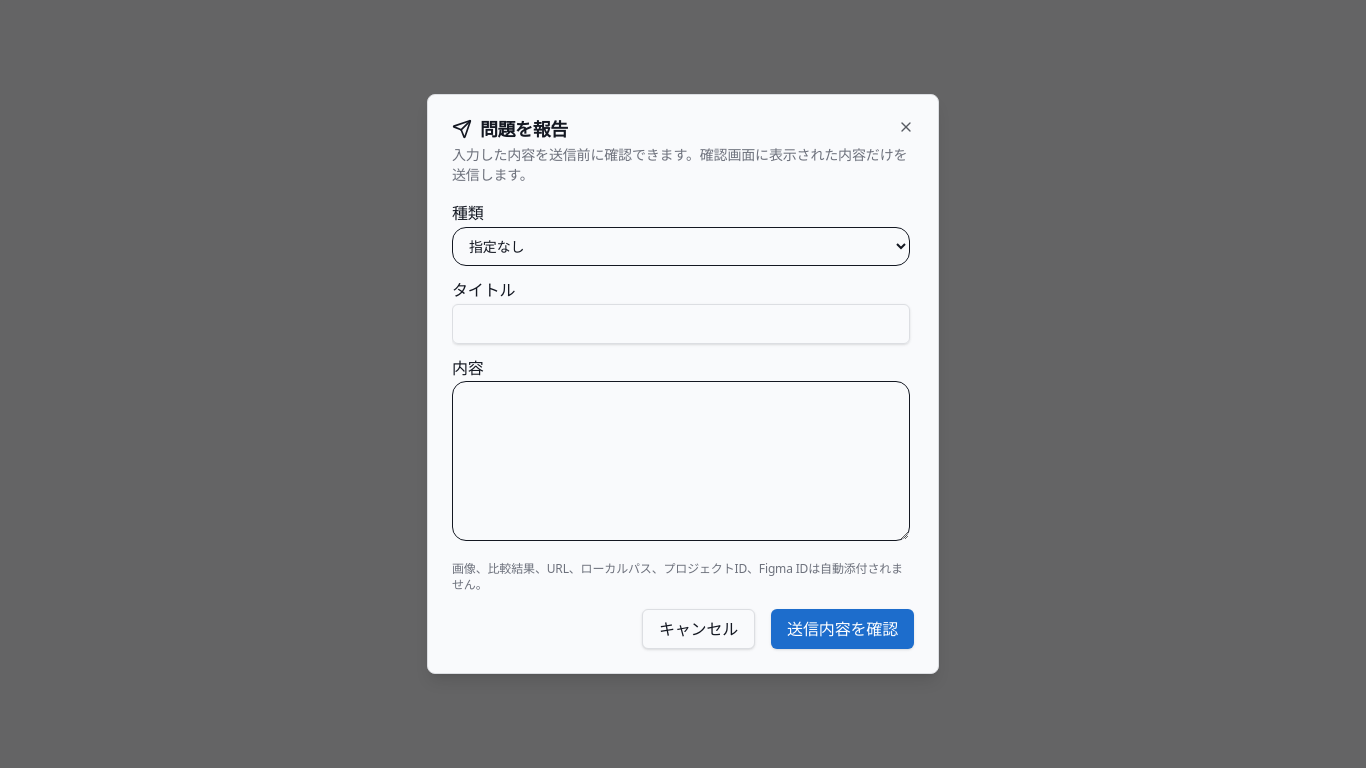
Test: IssueReportDialog › mainが返したexact payloadをreadonly表示して自動添付しない
Expected: the text "画像、比較結果、URL、ローカルパス、プロジェクトID、Figma IDは自動添付されません。" is shown, [452,561,910,593]
Select "不具合" in the dropdown labelled "種類" at (681, 246), box [452,227,910,266]
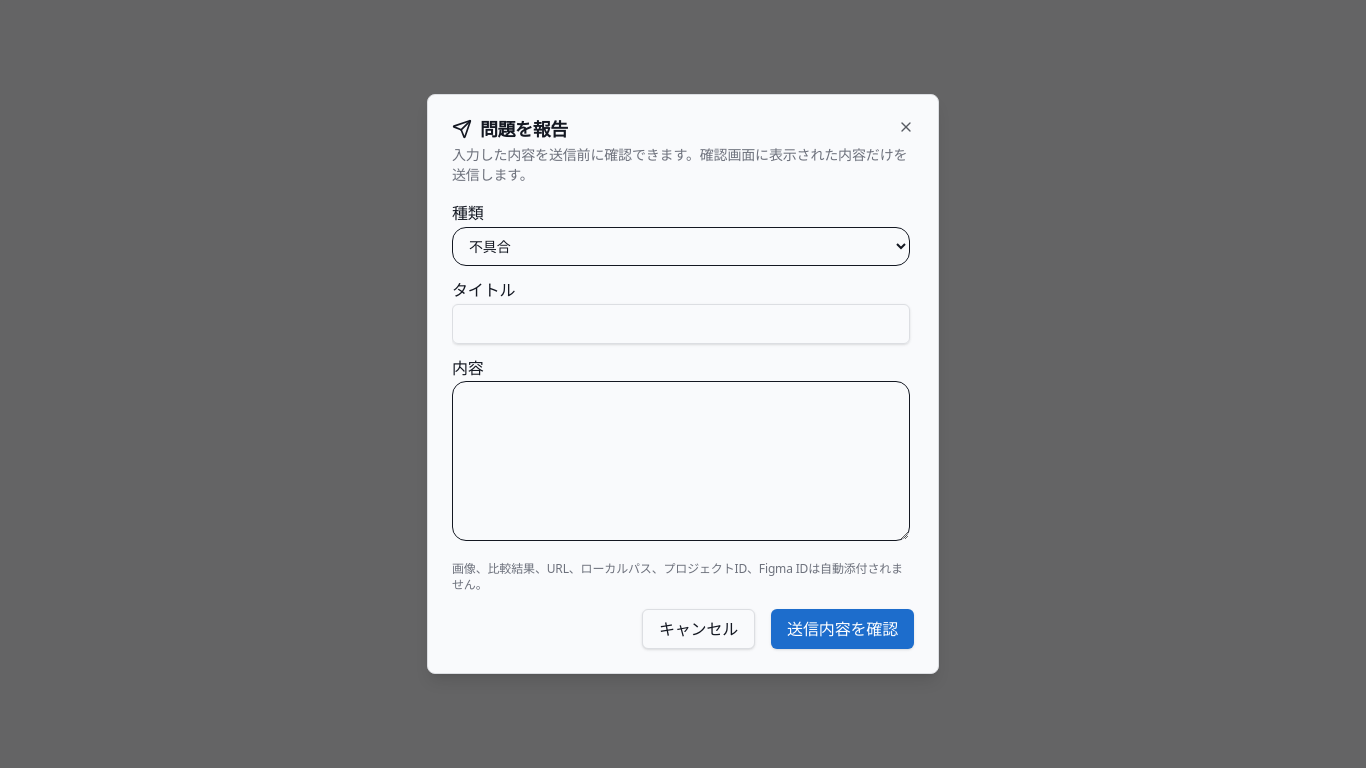
Type "  Broken panel  " into the field labelled "タイトル" at (681, 324), box [452,304,910,344]
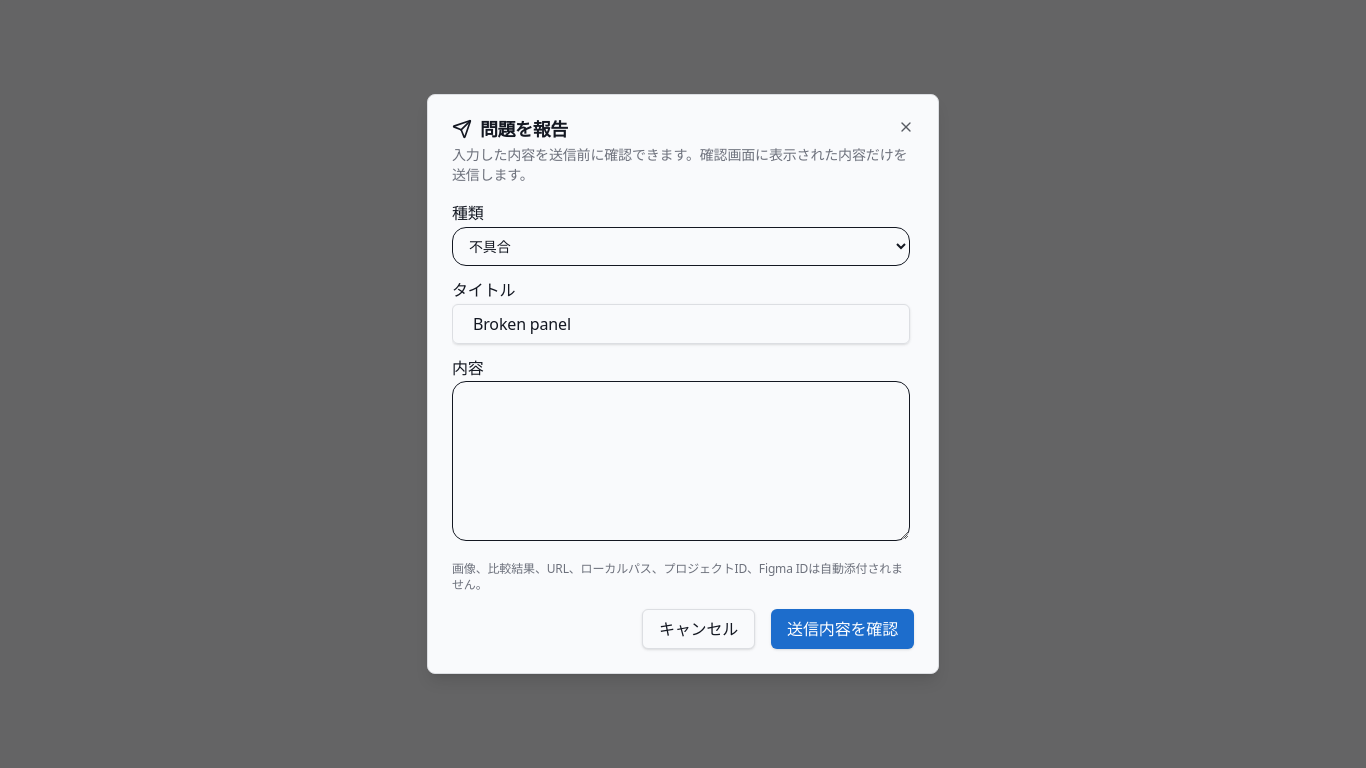
Type "  Steps to reproduce  " into the text box labelled "内容" at (681, 461), box [452,381,910,541]
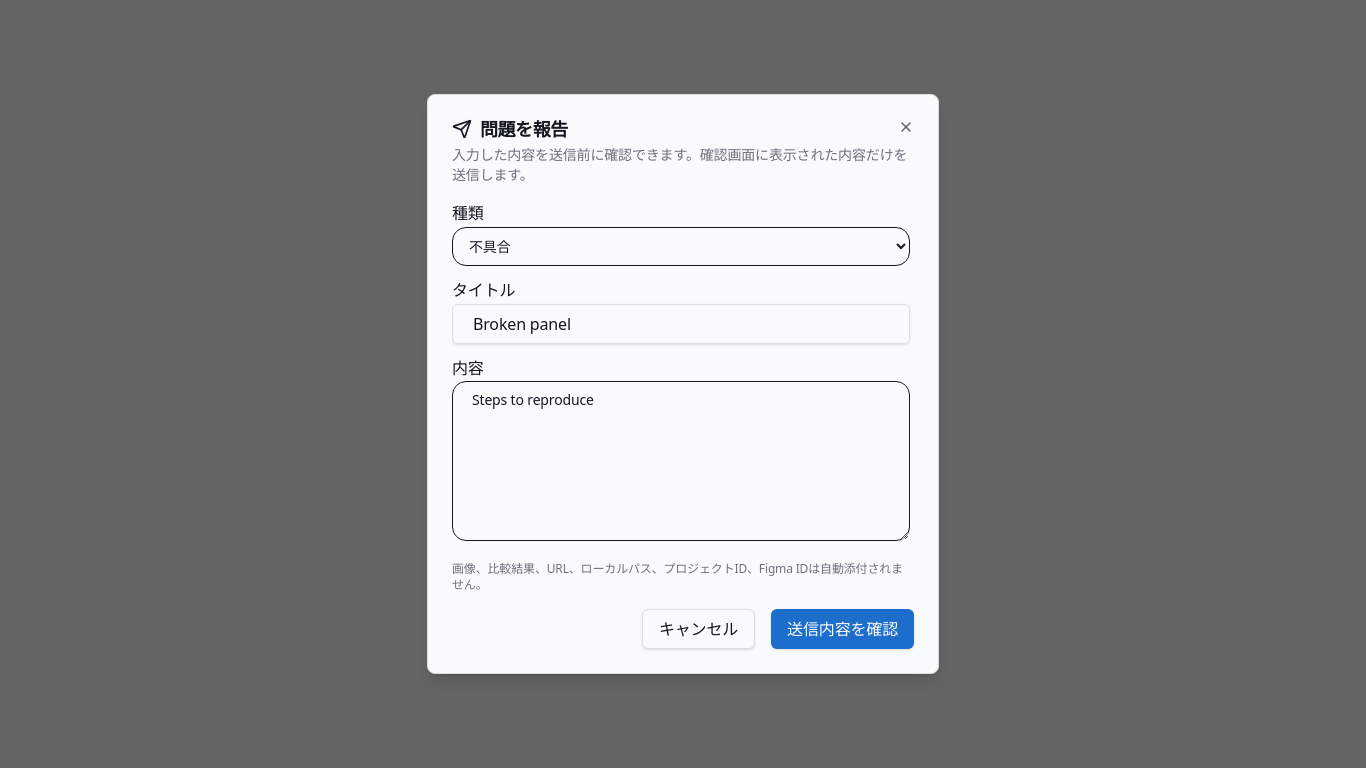
Click the button "送信内容を確認" at (843, 629), box [771,609,914,649]
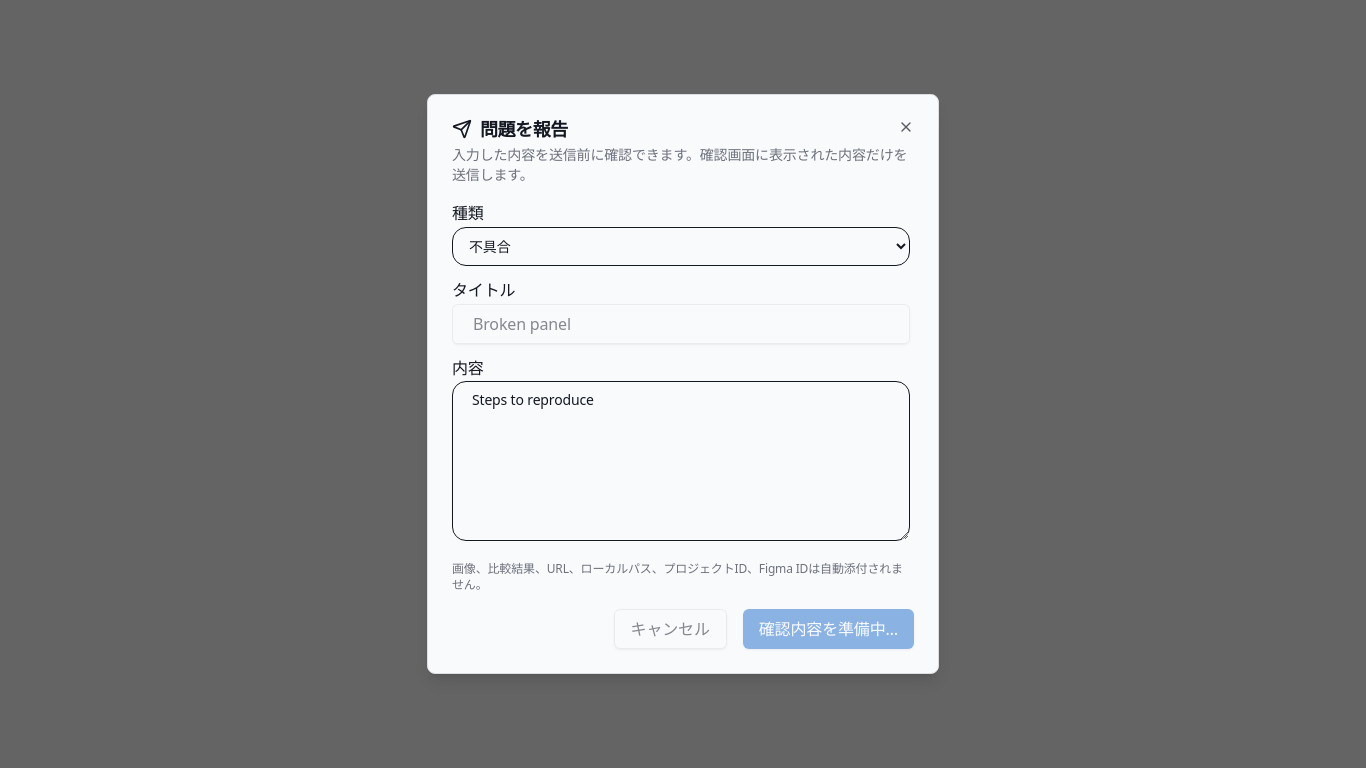
Click the button named "送信内容を確認" at (828, 629), box [743,609,914,649]
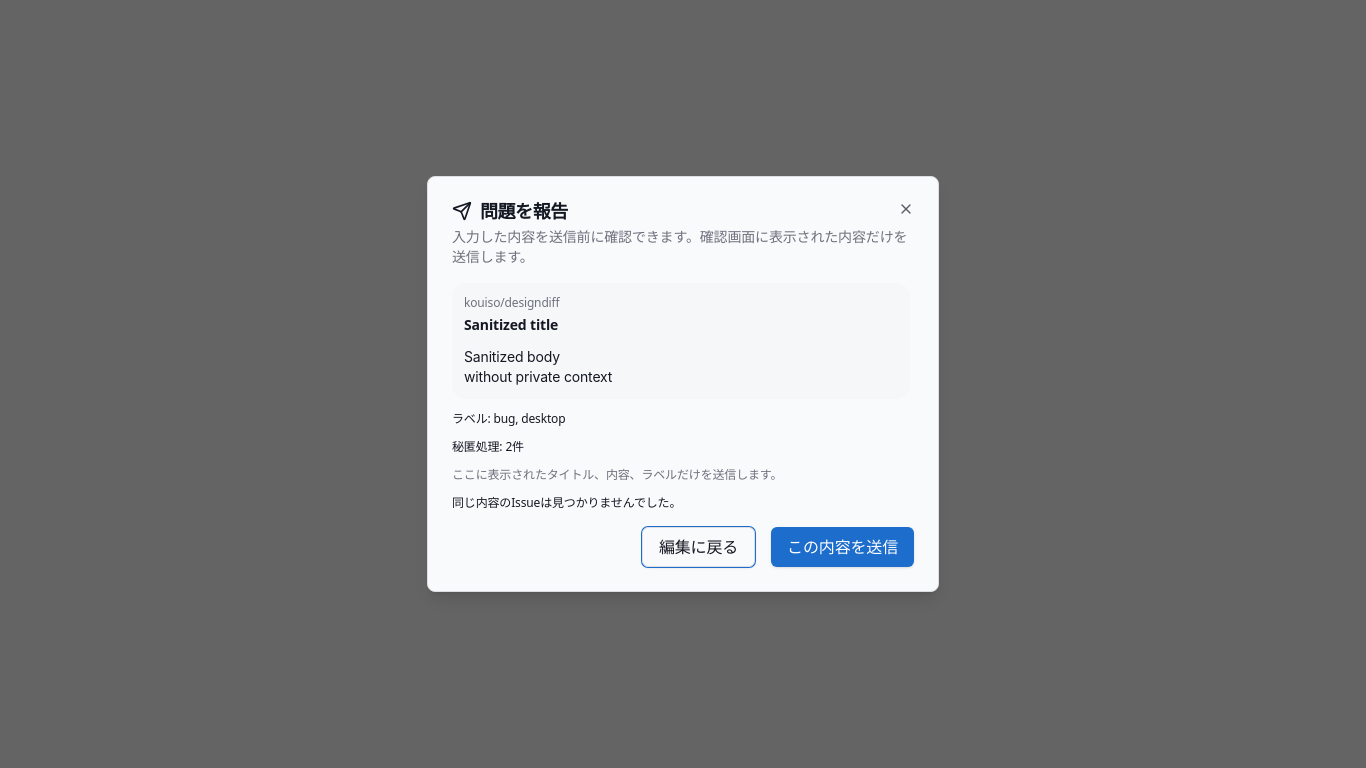
Result: the heading "Sanitized title" is shown at [464,315,558,334]
Result: the text "Sanitized body without private context" is shown at [464,348,612,385]
Result: the text "kouiso/designdiff" is shown at [464,294,560,311]
